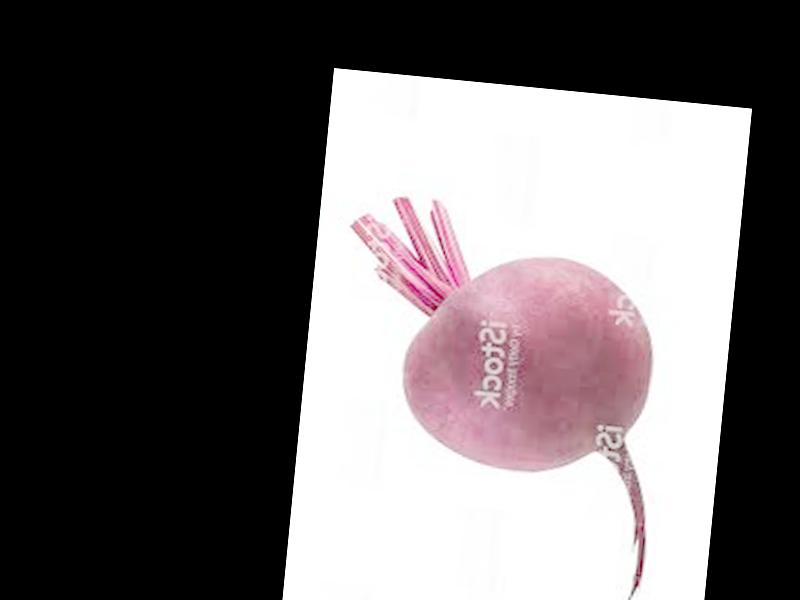Beet: (316, 191, 674, 600)
